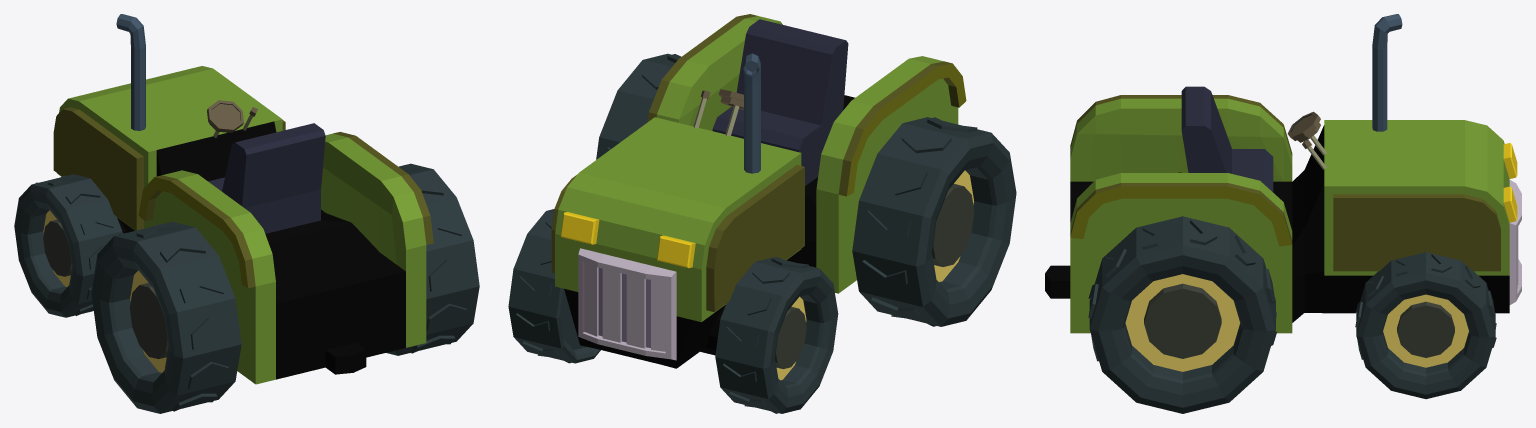
File: tractor.fbx
3 views of the same model, side by side, from view 1: azimuth 30°, elevation 25°; view 2: azimuth 150°, elevation 25°; view 3: azimuth 270°, elevation 25° (orthographic). The views are drawn at different scales.
Visible parts, largest first — view 1: tractor_mesh, tractor_wheel_back, tractor_wheel_front; view 2: tractor_mesh, tractor_wheel_back, tractor_wheel_front; view 3: tractor_mesh, tractor_wheel_back, tractor_wheel_front.
Boxes of the visible parts, x1,y1,x2,y2 form: tractor_mesh: [53, 14, 433, 384]; tractor_wheel_back: [91, 163, 479, 413]; tractor_wheel_front: [14, 174, 126, 317]; tractor_mesh: [551, 14, 966, 368]; tractor_wheel_back: [596, 53, 1016, 326]; tractor_wheel_front: [508, 209, 838, 413]; tractor_mesh: [1045, 14, 1521, 333]; tractor_wheel_back: [1088, 216, 1276, 413]; tractor_wheel_front: [1355, 252, 1496, 399].
Bounding box in the file's own units: 814 × 757 × 1091.
